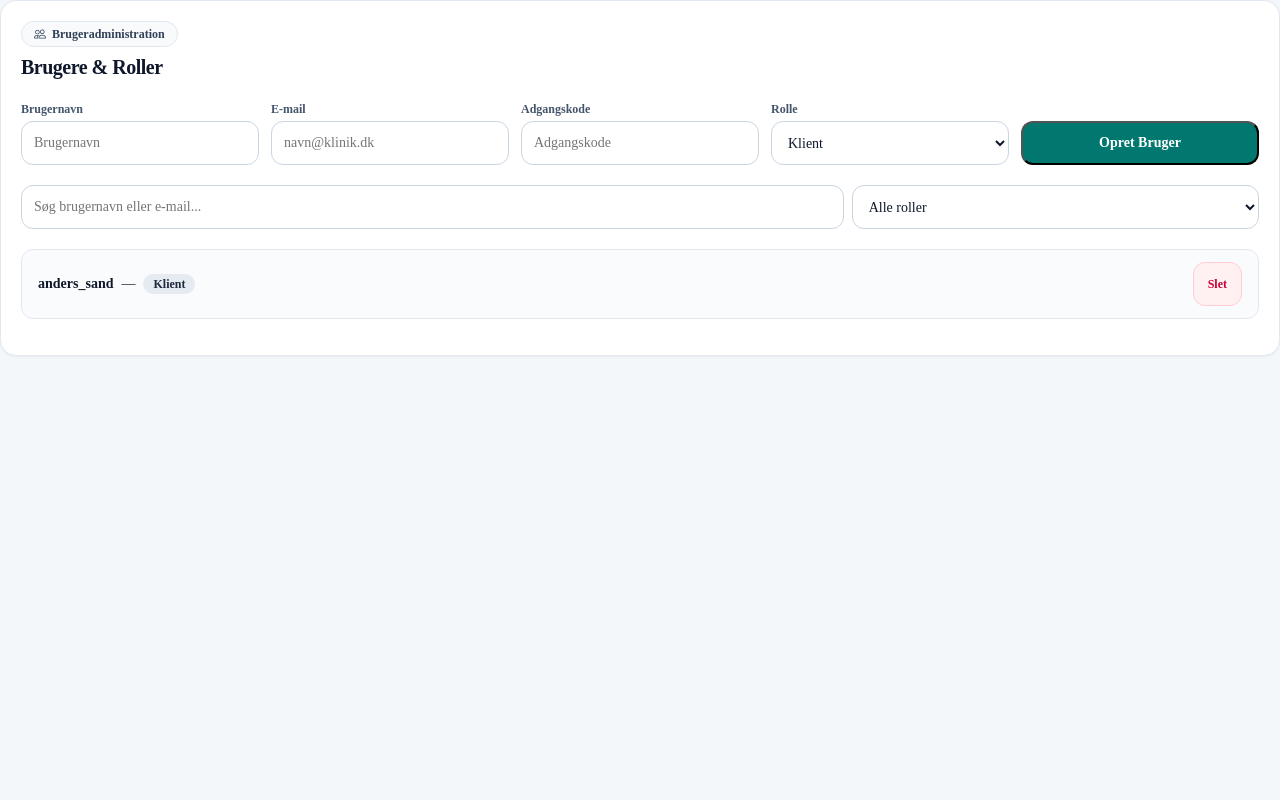
UserFeature Vertical Slice › renders users, creates a new user, and deletes a user (Happy Path)
The image size is (1280, 800).
Expected: the text "anders_sand" is shown, [38,274,114,294]
In the field with test id "input-username": (140, 143) [21,121,259,165], type "bo_jensen"
In the password field with test id "input-password": (640, 143) [521,121,759,165], type "Secret123!"
Select "Behandler" in the dropdown with test id "select-role": (890, 143) [771,121,1009,165]
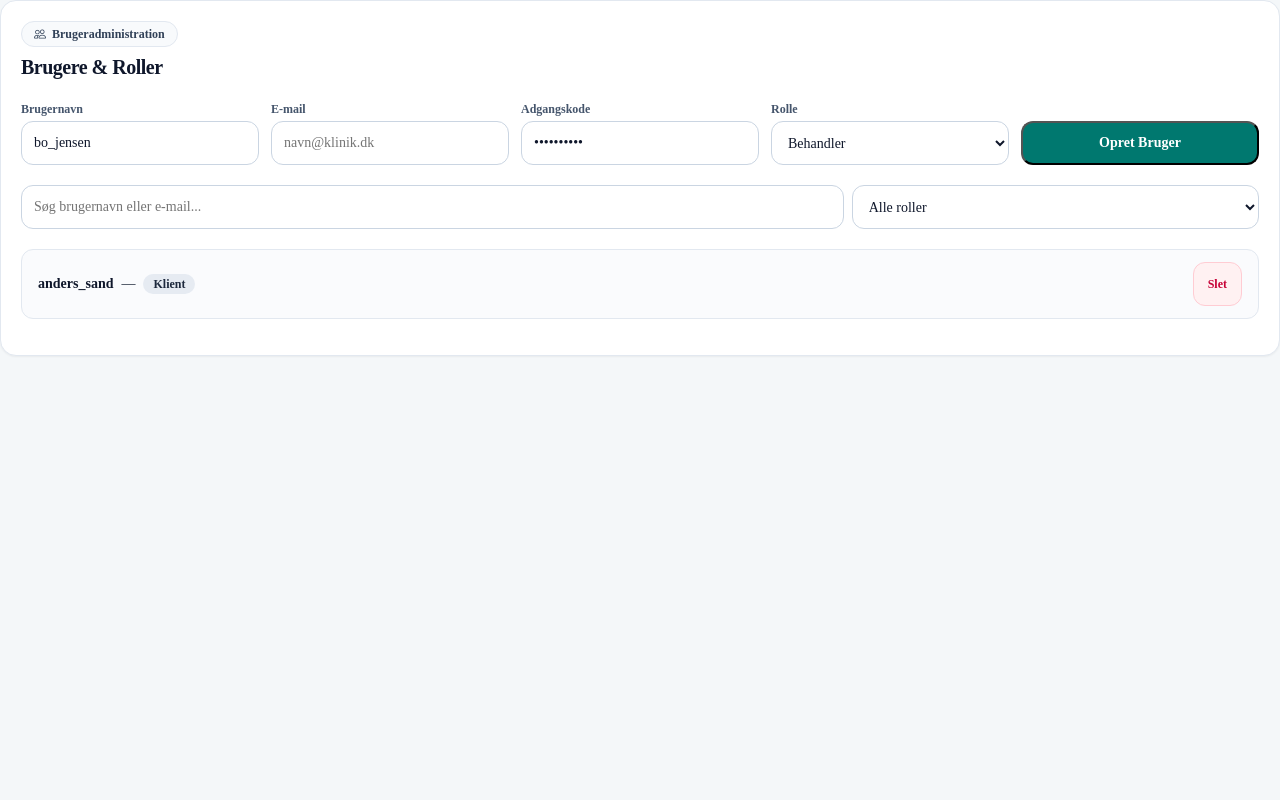
Click the button with test id "submit-user": (1140, 143) [1021,121,1259,165]
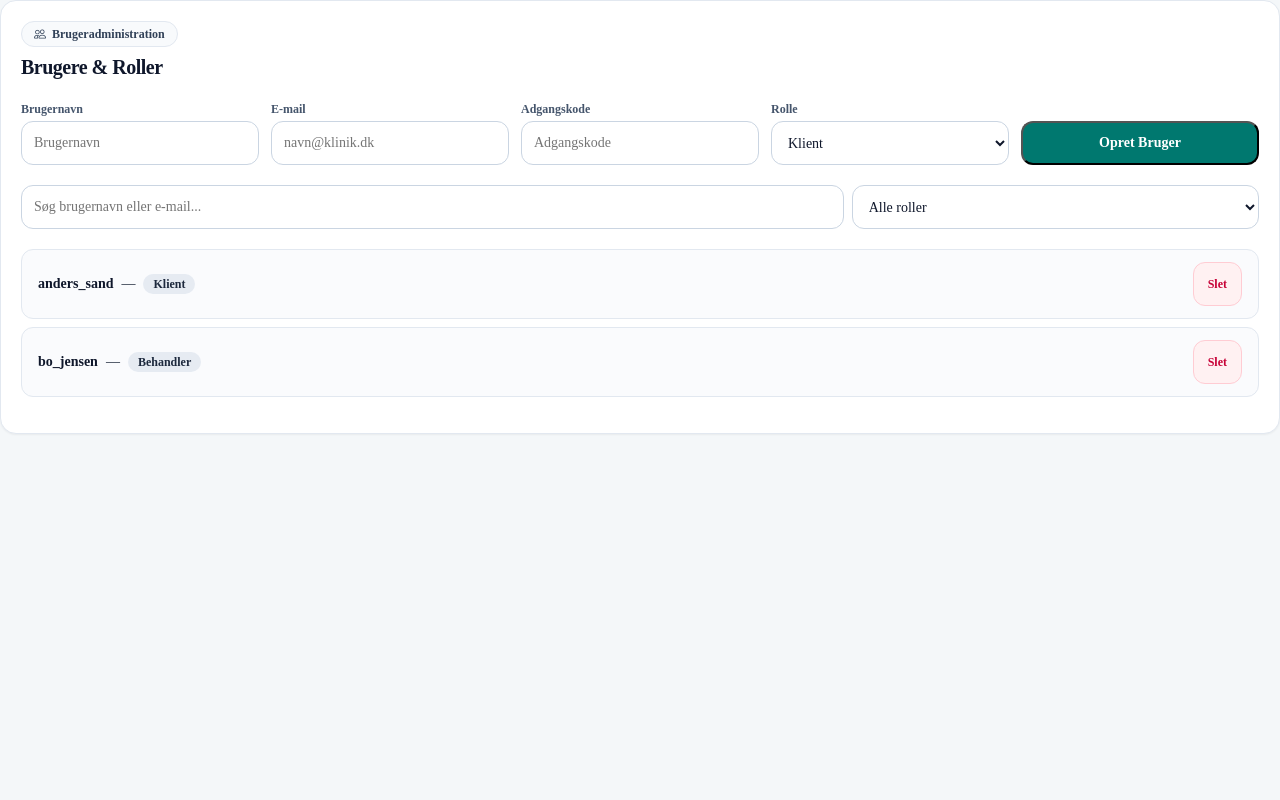
Expected: the text "bo_jensen" is shown, [38,352,98,372]
Click the button with test id "delete-user-u-2": (1217, 362) [1193,340,1242,384]
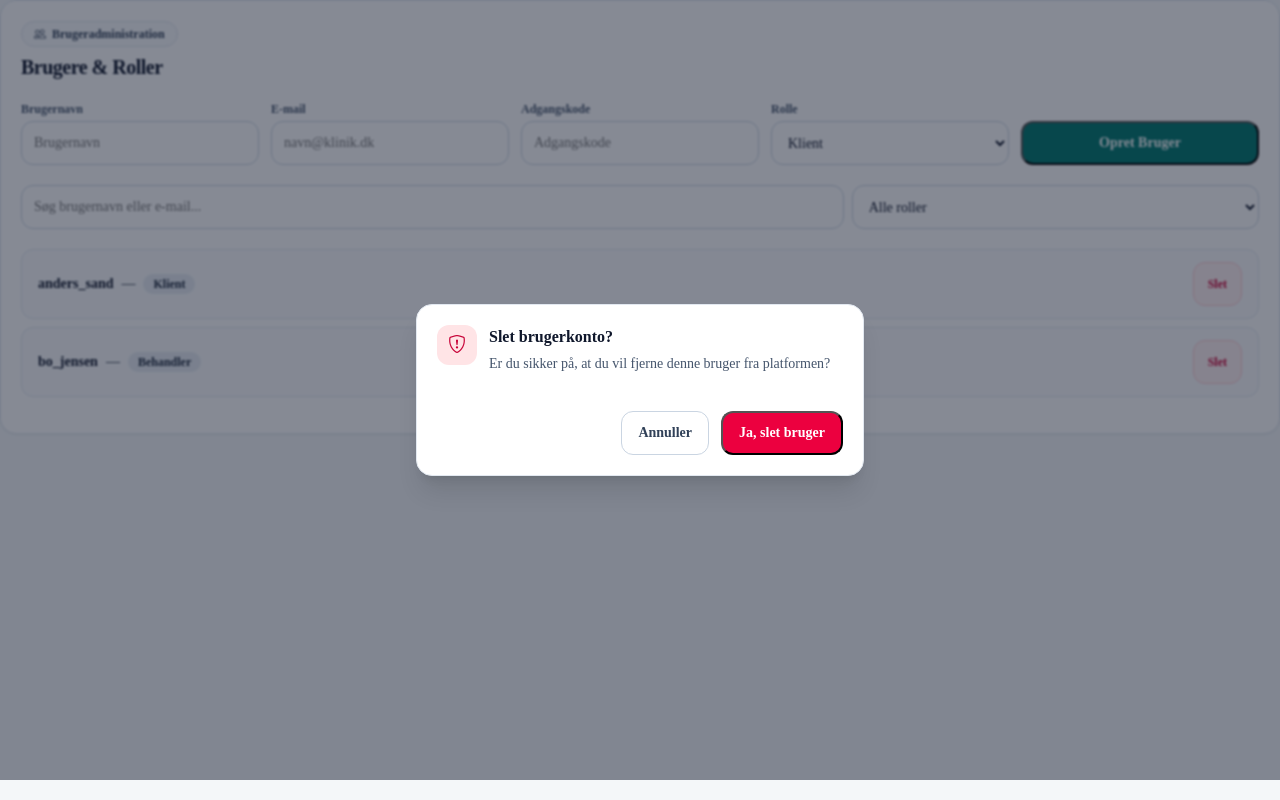
Expected: the dialog with test id "confirm-action-dialog" is shown
Click the button with test id "confirm-action-cancel": (665, 433) [621,411,709,455]
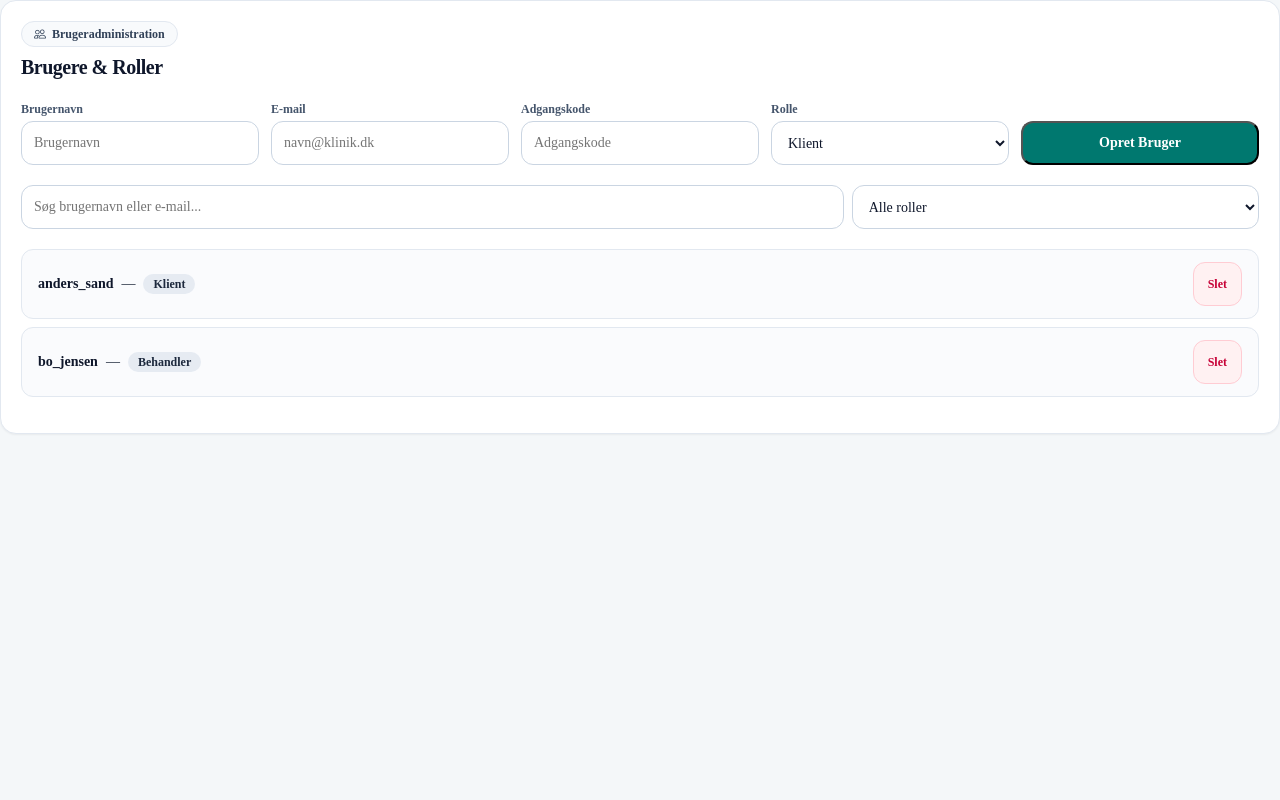
Expected: the dialog with test id "confirm-action-dialog" is gone
Click the button with test id "delete-user-u-2": (1217, 362) [1193,340,1242,384]
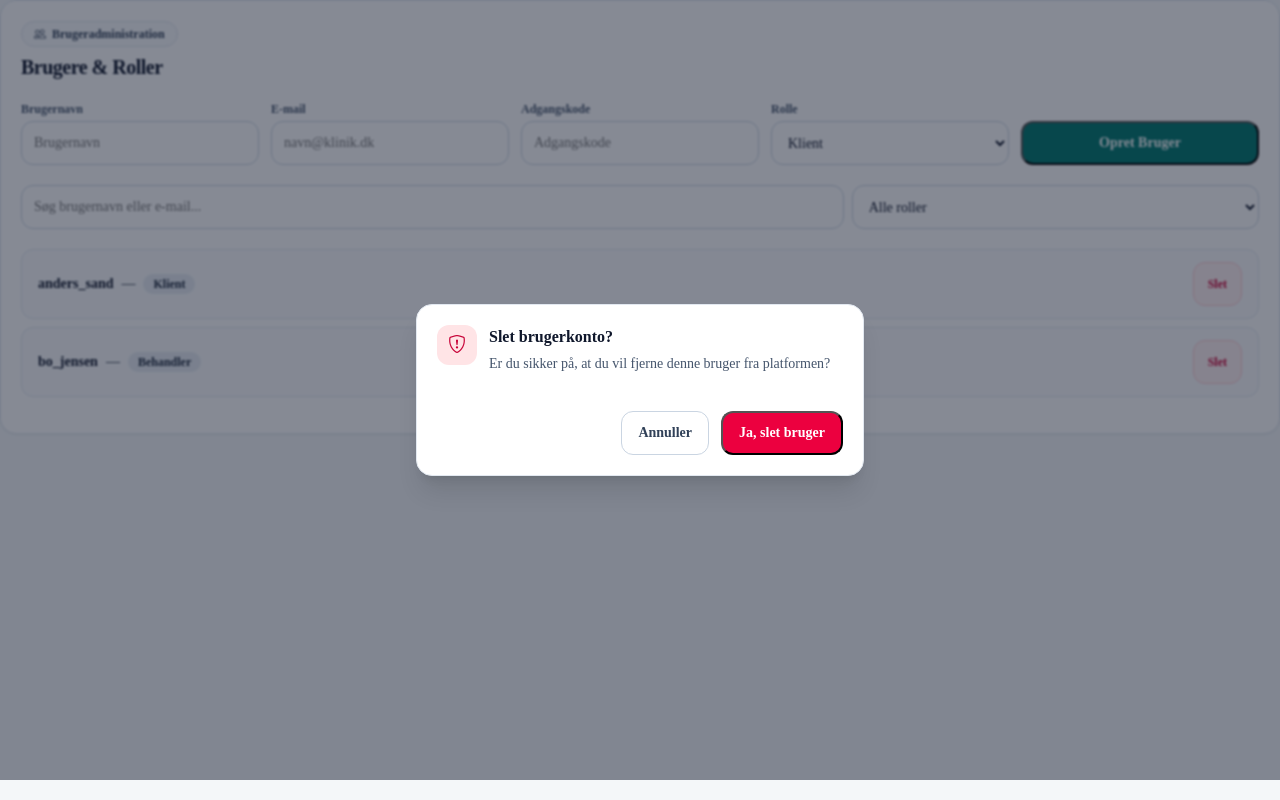
Click the button with test id "confirm-action-accept": (782, 433) [721,411,843,455]
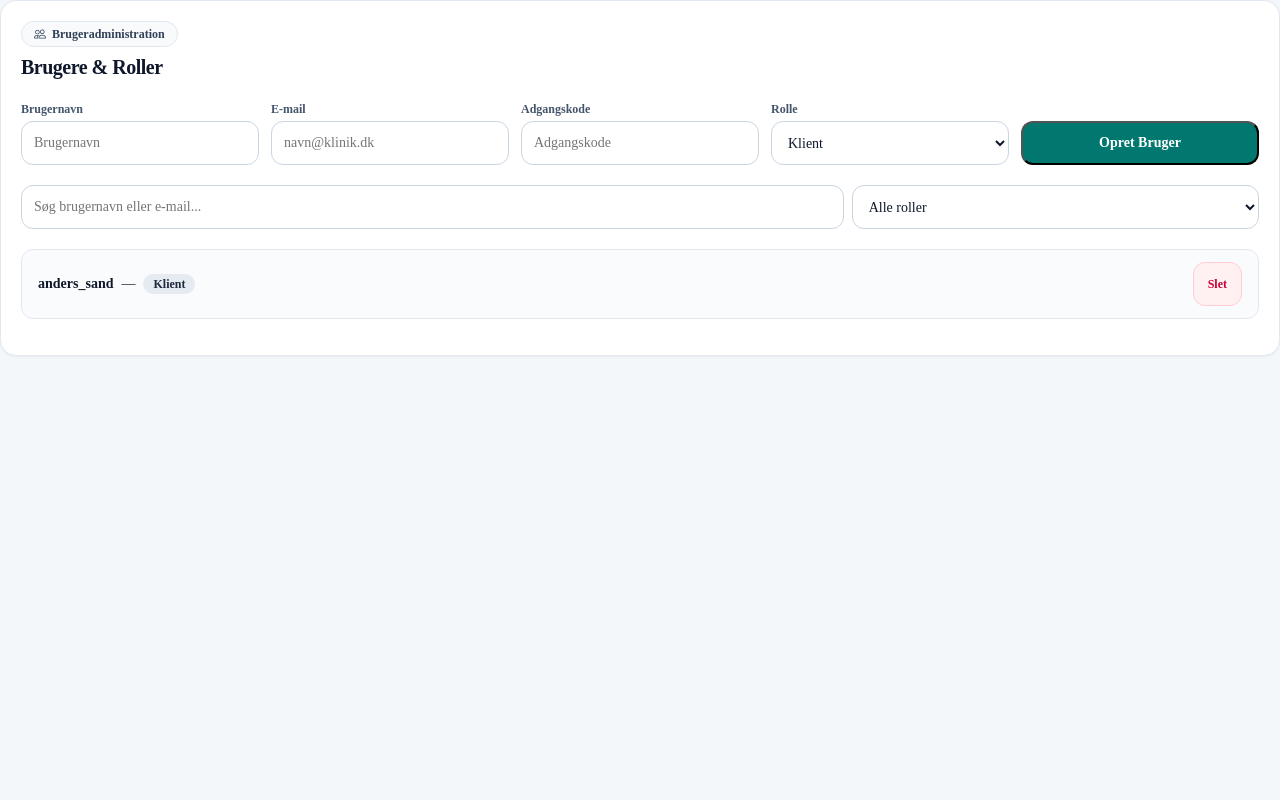
Expected: the text "bo_jensen" is gone
